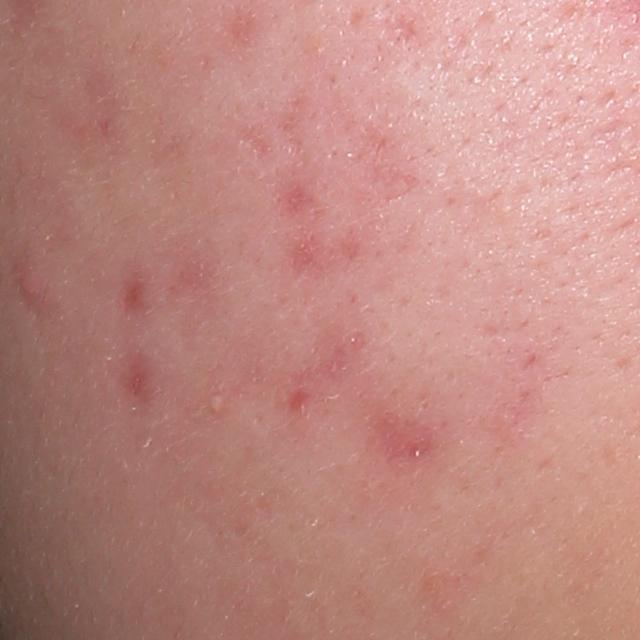atrophic_scar: (238, 125, 273, 166)
comedo: (204, 389, 224, 411)
papule: (11, 263, 45, 300)
